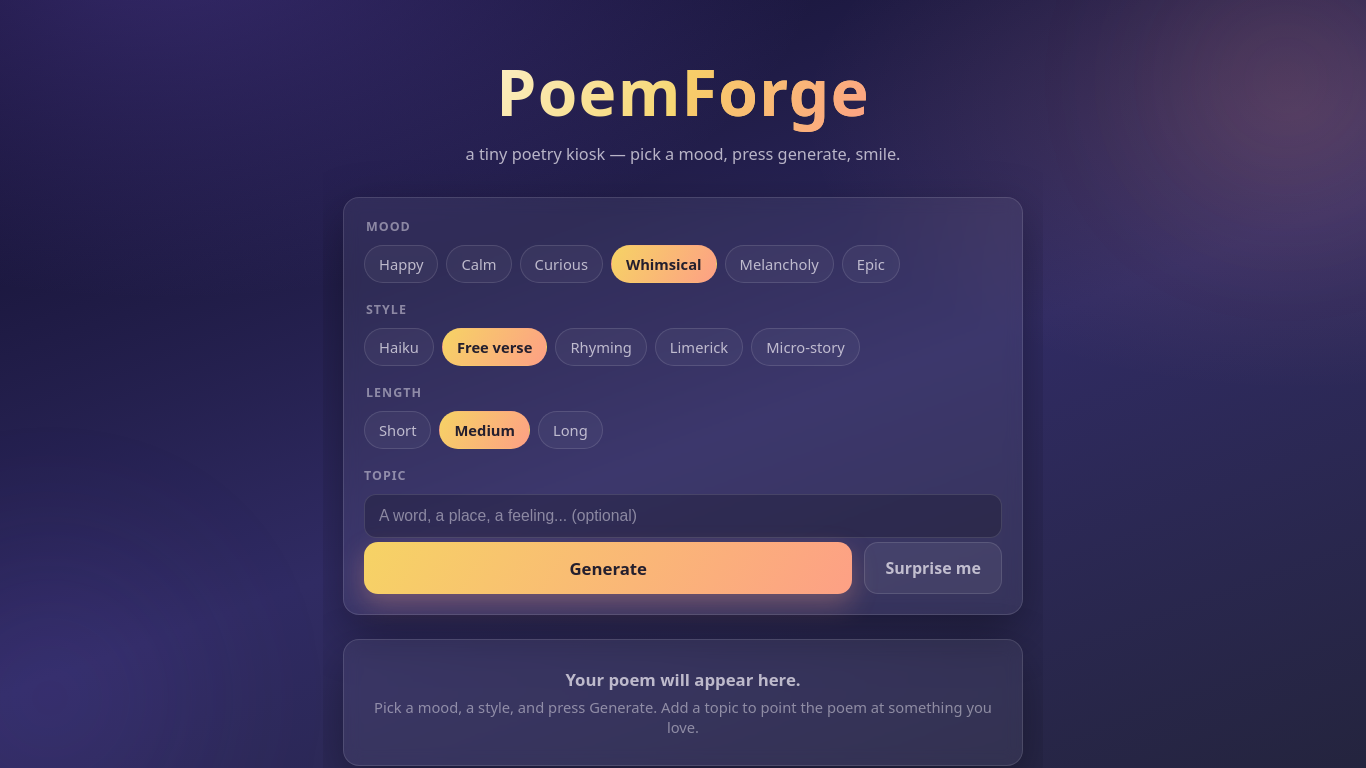
Scenario: App › shows a friendly error when the request fails
What coordinates should you click on to do the following:
click the button "Generate"
I would click on:
 (608, 568)
Its box is [364, 542, 852, 594].
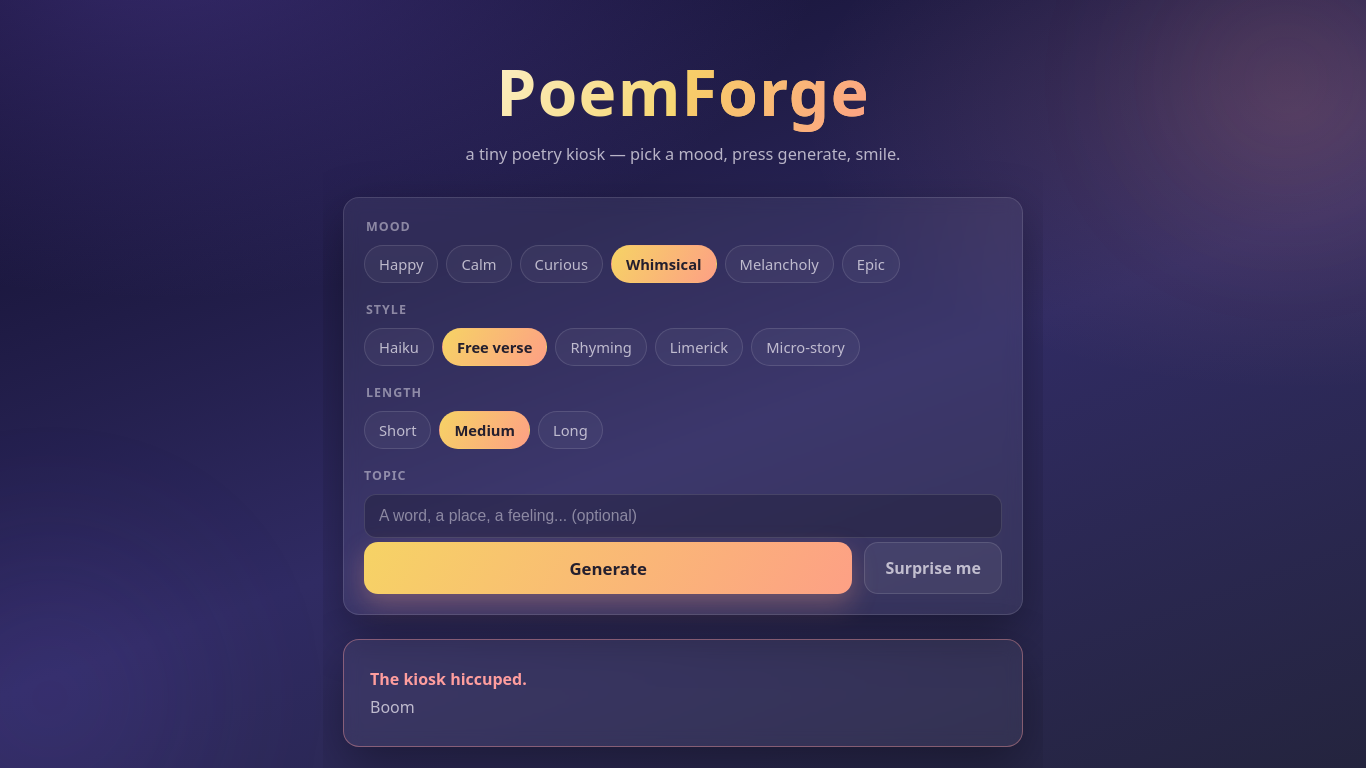
expect the text "Boom" is shown: met, box [370, 696, 415, 718]
